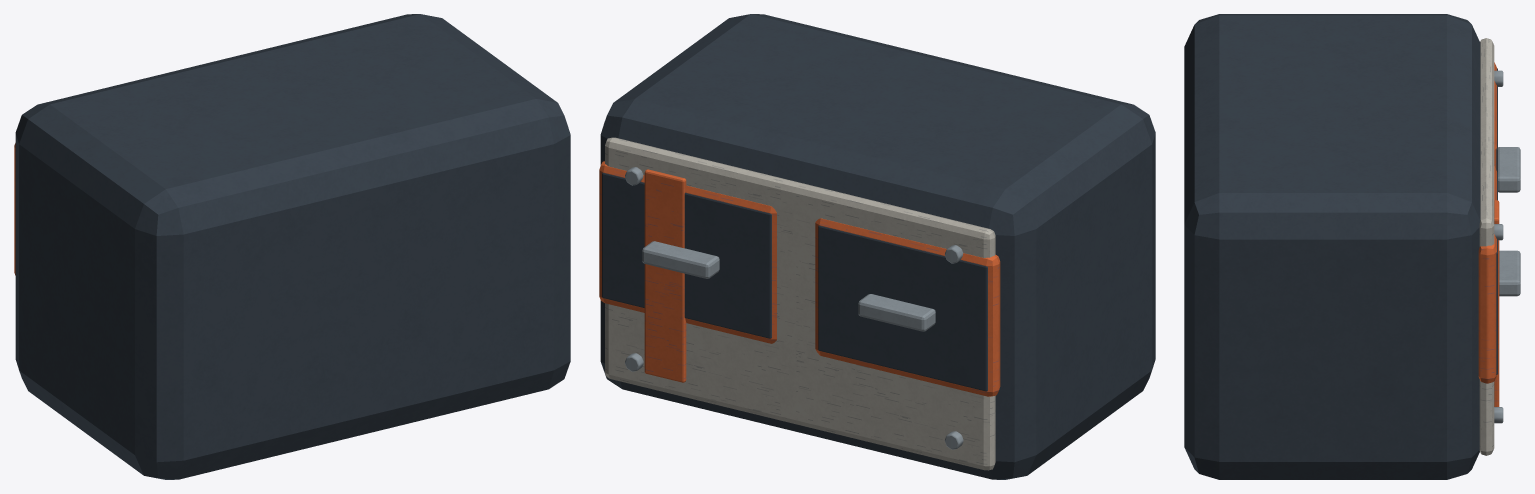
Rendered from supply-case.glb.
3 renders of one model, left to right at view 1: azimuth 30°, elevation 25°; view 2: azimuth 150°, elevation 25°; view 3: azimuth 270°, elevation 25°, orthographic.
Visible parts, largest first — view 1: Equipment frame; view 2: Equipment frame, Painted panel, Remnant0, Remnant1, Orange stripe, Target0, Target1, Hatch handle, Hatch handle.001, Assembly_Machined_alloy; view 3: Equipment frame, Painted panel, Target1, Hatch handle, Hatch handle.001, Orange stripe, Assembly_Machined_alloy.
Part boxes in pixels (x1=…): Equipment frame: x1=15, y1=14, x2=570, y2=479; Equipment frame: x1=600, y1=14, x2=1155, y2=479; Painted panel: x1=605, y1=137, x2=995, y2=470; Remnant0: x1=818, y1=225, x2=987, y2=391; Remnant1: x1=602, y1=172, x2=771, y2=338; Orange stripe: x1=644, y1=169, x2=686, y2=382; Target0: x1=815, y1=218, x2=1000, y2=396; Target1: x1=599, y1=161, x2=776, y2=343; Hatch handle: x1=858, y1=294, x2=935, y2=331; Hatch handle.001: x1=642, y1=241, x2=719, y2=278; Assembly_Machined_alloy: x1=625, y1=167, x2=963, y2=449; Equipment frame: x1=1184, y1=14, x2=1480, y2=479; Painted panel: x1=1479, y1=38, x2=1494, y2=455; Target1: x1=1478, y1=166, x2=1496, y2=383; Hatch handle: x1=1498, y1=147, x2=1520, y2=192; Hatch handle.001: x1=1499, y1=250, x2=1520, y2=296; Orange stripe: x1=1494, y1=200, x2=1499, y2=406; Assembly_Machined_alloy: x1=1494, y1=70, x2=1503, y2=423.
Bounding box in the file's own units: 1.4 × 0.9 × 0.96.
Materials: 4 (4 with a texture image).
